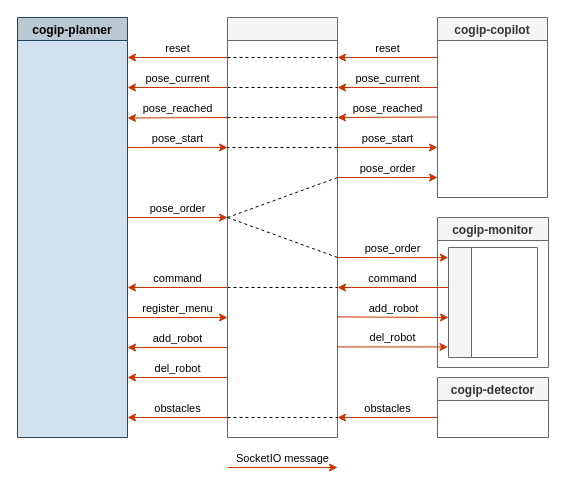
Some shapes in this 566 by 493 pixel diagram are drawn without their labels. The shapes that lost their labels are listed below. From the top down, each one's centre as x and y in pixels, then its label:
the point at 282,227: cogip-server
the point at 493,302: /dashboard
